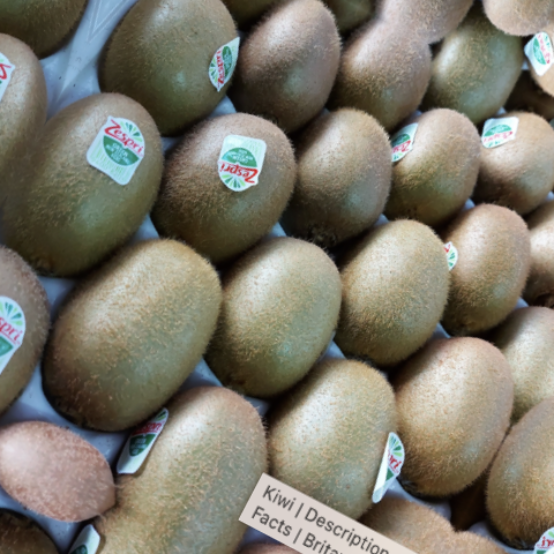kiwi: (2, 180, 267, 471), (228, 318, 449, 554), (338, 300, 546, 540), (0, 62, 205, 303), (86, 338, 308, 554), (297, 184, 488, 396), (142, 87, 320, 285), (195, 0, 378, 166), (394, 175, 554, 358), (352, 84, 513, 252), (275, 81, 431, 249)
